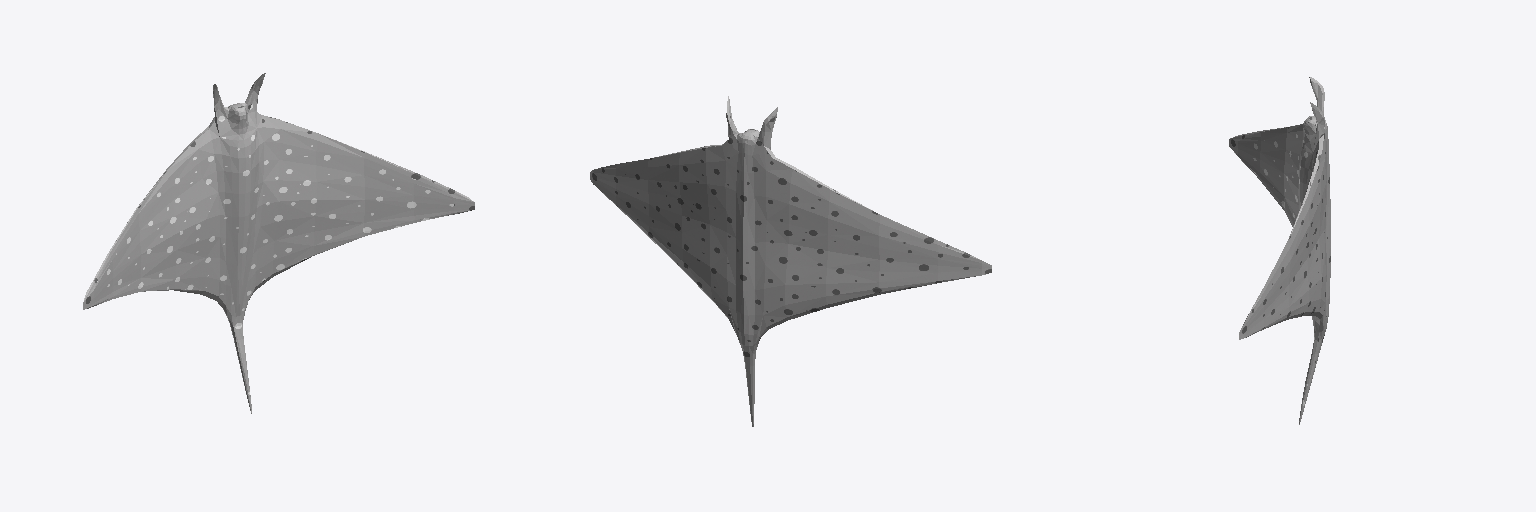
3 renders of one model, left to right at view 1: azimuth 30°, elevation 25°; view 2: azimuth 150°, elevation 25°; view 3: azimuth 270°, elevation 25°, orthographic.
Parts seen in each view (by area): view 1: Box01; view 2: Box01; view 3: Box01.
Part boxes in pixels (x1,y1,x2,y2): Box01: (83, 73, 474, 413); Box01: (590, 96, 991, 426); Box01: (1229, 77, 1330, 424).
Size of the model in its own units: 289 by 233 by 64.4.
3 materials, 2 textured.